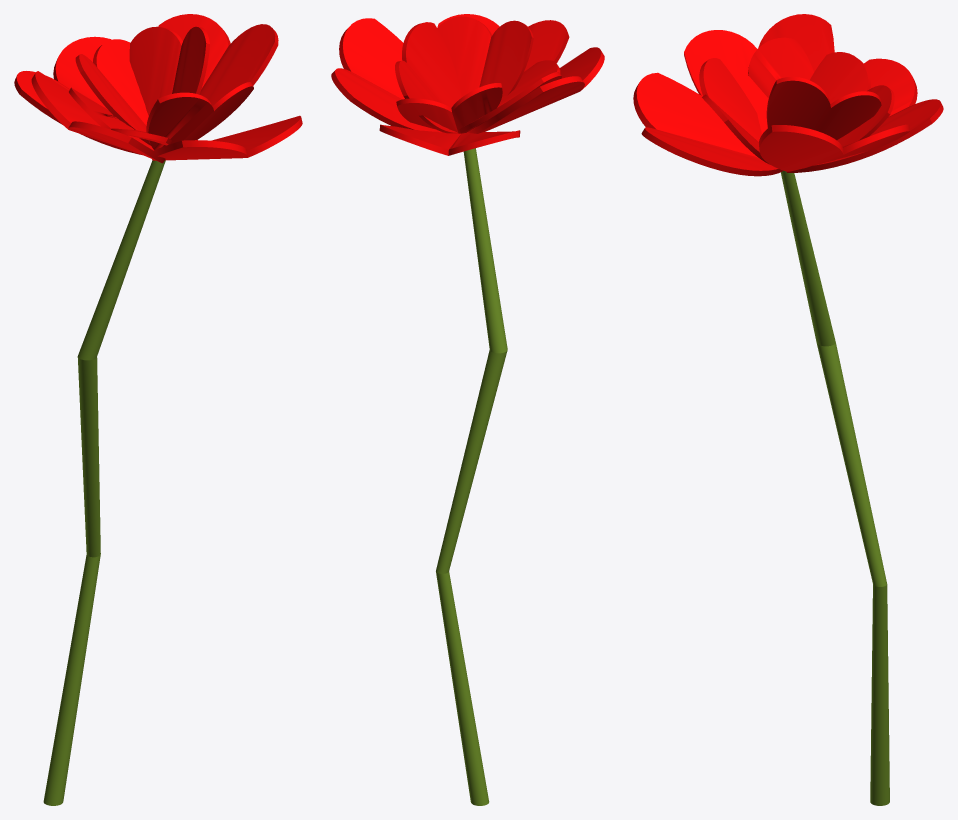
File: flower.fbx
The picture shows the model from 3 angles, left to right: view 1: azimuth 30°, elevation 25°; view 2: azimuth 150°, elevation 25°; view 3: azimuth 270°, elevation 25°; orthographic projection. The views are drawn at different scales.
Parts seen in each view (by area): view 1: flower1; view 2: flower1; view 3: flower1.
Part boxes in pixels (x1,y1,x2,y2): flower1: [14, 14, 302, 805]; flower1: [331, 14, 604, 805]; flower1: [633, 14, 943, 805].
Bounding box in the file's own units: 17.59 × 54.16 × 19.62.
